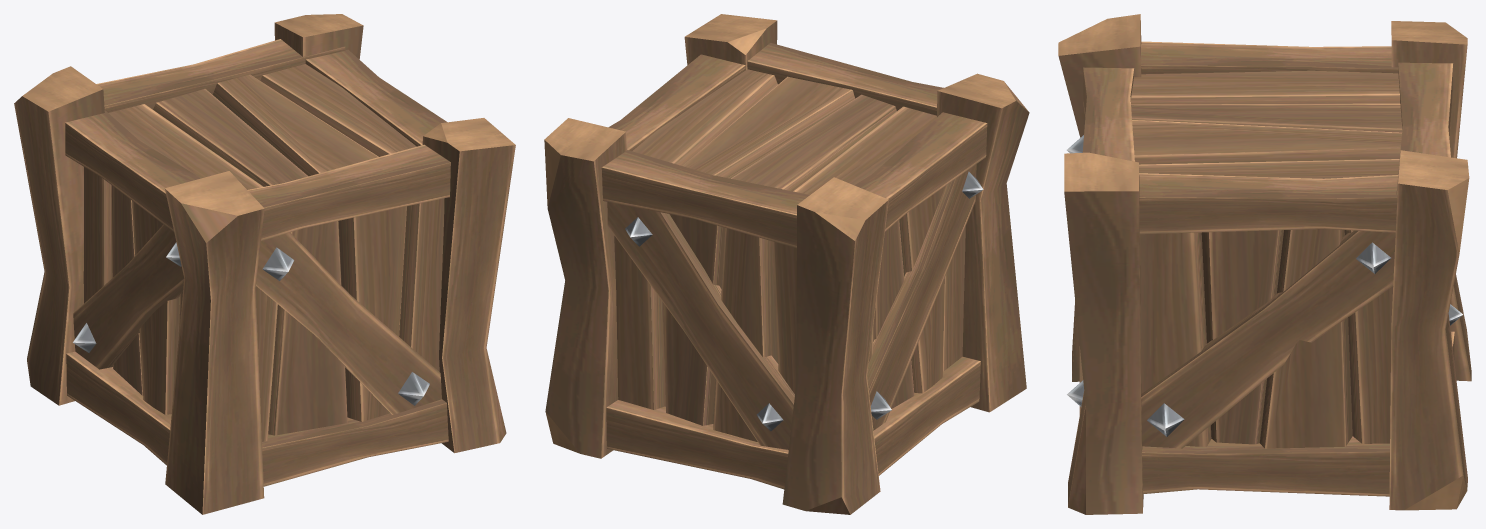
The model's file is A_HA_GEN_Crate_01.fbx.
3 views of the same model, side by side, from view 1: azimuth 30°, elevation 25°; view 2: azimuth 150°, elevation 25°; view 3: azimuth 270°, elevation 25° (orthographic). The views are drawn at different scales.
Visible parts, largest first — view 1: A_CA_GEN_Crate_01; view 2: A_CA_GEN_Crate_01; view 3: A_CA_GEN_Crate_01.
Boxes of the visible parts, <box> form: A_CA_GEN_Crate_01: <box>14,14,515,514</box>; A_CA_GEN_Crate_01: <box>544,14,1029,514</box>; A_CA_GEN_Crate_01: <box>1058,14,1471,514</box>.
Bounding box in the file's own units: 272 × 248 × 277.
1 material, 1 textured.
